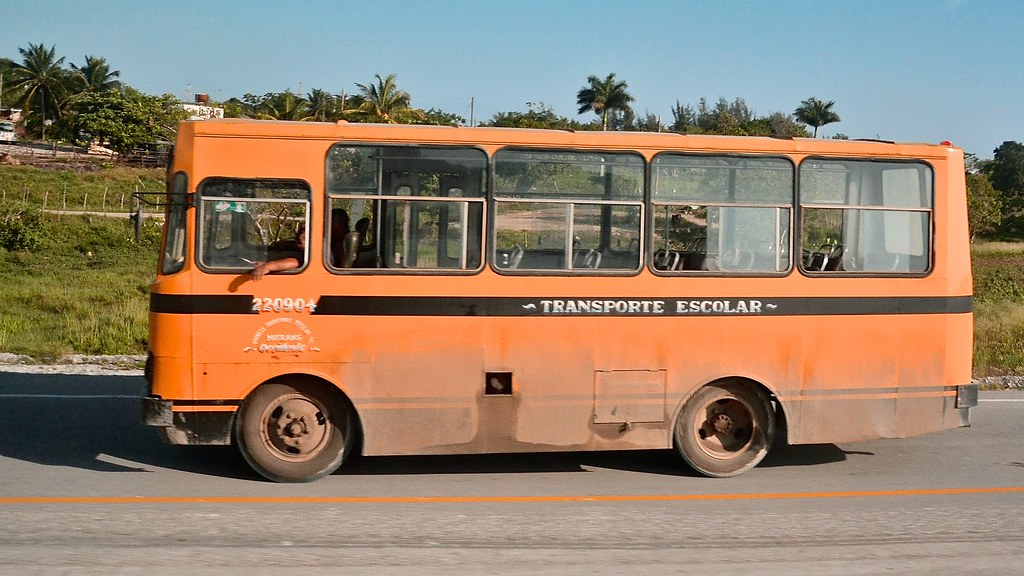bus: (83, 94, 998, 492)
